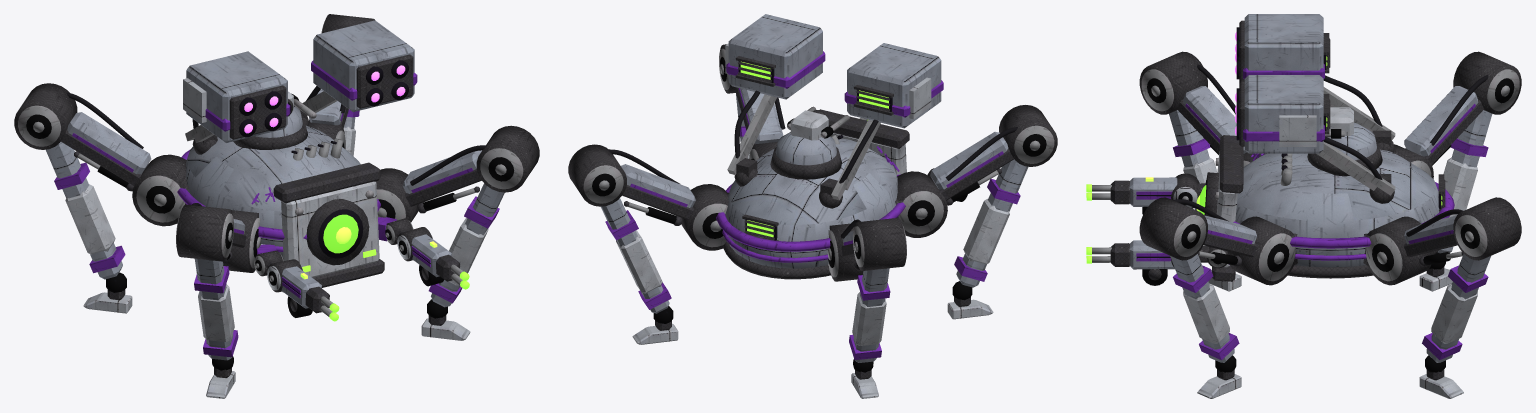
Rendered from alien_skitter.glb.
The picture shows the model from 3 angles, left to right: view 1: azimuth 30°, elevation 25°; view 2: azimuth 150°, elevation 25°; view 3: azimuth 270°, elevation 25°; orthographic projection. The views are drawn at different scales.
Visible parts, largest first — view 1: body_skitter_armor, body_skitter_frame, pod_L_skitter_armor, pod_R_skitter_armor, body_skitter_armor2, leg_R1_tibia_skitter_frame, leg_R2_femur_skitter_frame, leg_R2_femur_skitter_armor, leg_R2_tibia_skitter_armor2, leg_L1_femur_skitter_frame, pod_R_skitter_frame, leg_L1_tibia_skitter_frame (+39 smaller); view 2: body_skitter_armor, pod_L_skitter_armor, pod_R_skitter_armor, body_skitter_frame, body_skitter_livery, leg_R2_tibia_skitter_frame, leg_R1_femur_skitter_frame, leg_L2_femur_skitter_frame, leg_R1_tibia_skitter_armor2, leg_L2_tibia_skitter_frame, turret_1_skitter_armor, leg_R1_tibia_skitter_frame (+32 smaller); view 3: body_skitter_armor, pod_L_skitter_armor, pod_R_skitter_armor, body_skitter_frame, leg_L2_tibia_skitter_frame, leg_L1_tibia_skitter_frame, leg_L1_femur_skitter_frame, leg_L2_femur_skitter_frame, leg_R2_femur_skitter_armor, leg_R1_tibia_skitter_frame, leg_R2_tibia_skitter_frame, leg_L1_tibia_skitter_armor2 (+46 smaller).
Boxes of the visible parts, left/top/right/bottom form: body_skitter_armor: left=186, top=125, right=360, bottom=258; body_skitter_frame: left=273, top=162, right=384, bottom=292; pod_L_skitter_armor: left=313, top=20, right=414, bottom=111; pod_R_skitter_armor: left=186, top=51, right=287, bottom=142; body_skitter_armor2: left=281, top=181, right=379, bottom=277; leg_R1_tibia_skitter_frame: left=176, top=204, right=232, bottom=261; leg_R2_femur_skitter_frame: left=61, top=130, right=186, bottom=226; leg_R2_femur_skitter_armor: left=67, top=112, right=151, bottom=174; leg_R2_tibia_skitter_armor2: left=65, top=184, right=115, bottom=254; leg_L1_femur_skitter_frame: left=375, top=168, right=481, bottom=222; pod_R_skitter_frame: left=192, top=85, right=286, bottom=154; leg_L1_tibia_skitter_frame: left=474, top=125, right=539, bottom=192; body_skitter_armor: left=725, top=138, right=897, bottom=268; pod_L_skitter_armor: left=728, top=14, right=822, bottom=99; pod_R_skitter_armor: left=847, top=43, right=941, bottom=128; body_skitter_frame: left=723, top=109, right=909, bottom=279; body_skitter_livery: left=716, top=146, right=905, bottom=262; leg_R2_tibia_skitter_frame: left=854, top=218, right=906, bottom=270; leg_R1_femur_skitter_frame: left=896, top=148, right=1013, bottom=237; leg_L2_femur_skitter_frame: left=622, top=184, right=728, bottom=250; leg_R1_tibia_skitter_armor2: left=963, top=199, right=1009, bottom=264; leg_L2_tibia_skitter_frame: left=568, top=144, right=629, bottom=206; turret_1_skitter_armor: left=775, top=132, right=836, bottom=165; leg_R1_tibia_skitter_frame: left=997, top=105, right=1057, bottom=173; body_skitter_armor: left=1235, top=149, right=1439, bottom=267; pod_L_skitter_armor: left=1244, top=75, right=1323, bottom=153; pod_R_skitter_armor: left=1244, top=14, right=1323, bottom=70; body_skitter_frame: left=1205, top=135, right=1445, bottom=281; leg_L2_tibia_skitter_frame: left=1453, top=197, right=1521, bottom=260; leg_L1_tibia_skitter_frame: left=1139, top=197, right=1207, bottom=260; leg_L1_femur_skitter_frame: left=1204, top=216, right=1293, bottom=285; leg_L2_femur_skitter_frame: left=1367, top=216, right=1457, bottom=285; leg_R2_femur_skitter_armor: left=1404, top=86, right=1478, bottom=156; leg_R1_tibia_skitter_frame: left=1139, top=51, right=1207, bottom=128; leg_R2_tibia_skitter_frame: left=1453, top=51, right=1521, bottom=128; leg_L1_tibia_skitter_armor2: left=1183, top=284, right=1229, bottom=343.
Size of the model in its own units: 8.06 by 6 by 8.5.
12 materials, 6 textured.
